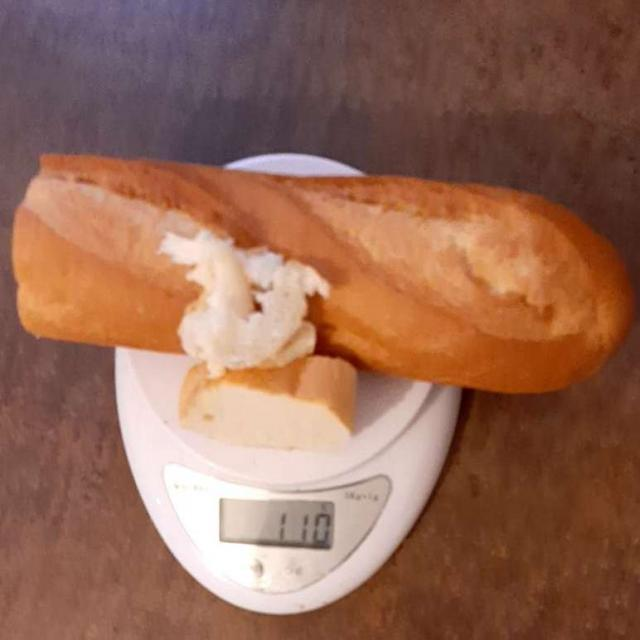bread: (33, 170, 601, 442)
